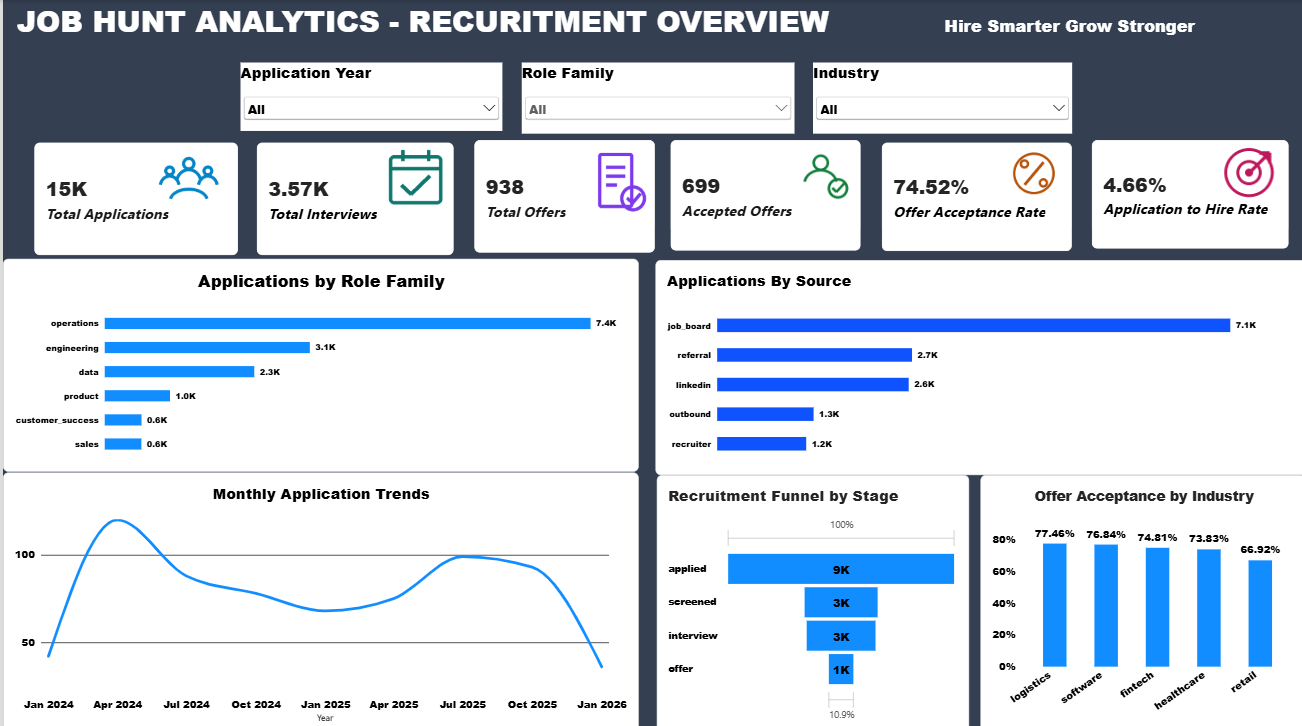

This screenshot's page, from the dashboard's own definition file:
{"tool":"powerbi","page":{"name":"Page 1","canvas":[1920,1080],"ordinal":0},"visuals":[{"type":"cardVisual","fields":{"Data":["public applications.Offer Acceptance Rate"]},"box":[1293.3,210,280,160],"z":0},{"type":"cardVisual","fields":{"Data":["public applications.Total Applications"]},"box":[46.7,210,300,166.7],"z":1},{"type":"cardVisual","fields":{"Data":["public applications.Total Interviews"]},"box":[373.3,210,290,166.7],"z":2},{"type":"cardVisual","fields":{"Data":["public applications.Total Offers"]},"box":[693.3,206.7,266.7,166.7],"z":3},{"type":"cardVisual","fields":{"Data":["public applications.Accepted Offers"]},"box":[983.3,206.7,280,163.3],"z":4},{"type":"textbox","box":[20,0,1900,93.3],"z":5},{"type":"cardVisual","fields":{"Data":["public applications.Application to Hire Rate"]},"box":[1603.3,206.7,290,160],"z":6},{"type":"funnel","title":"Recruitment Funnel by Stage","fields":{"Category":["public applications.stage"],"Y":["public applications.Applications by Stage"]},"box":[963.3,700,460,380],"z":7},{"type":"clusteredBarChart","title":"Applications By Source","fields":{"Category":["public applications.source"],"Y":["CountNonNull(public applications.application_id)"]},"box":[960,383.3,960,316.7],"z":8},{"type":"lineChart","title":"Monthly Application Trends","fields":{"Category":["public applications.accepted_at.Variation.Date Hierarchy.Year","public applications.accepted_at.Variation.Date Hierarchy.Quarter","public applications.accepted_at.Variation.Date Hierarchy.Month","public applications.accepted_at.Variation.Date Hierarchy.Day"],"Y":["CountNonNull(public applications.application_id)"]},"box":[0,694.9,935.9,385.6],"z":9},{"type":"clusteredColumnChart","title":"Offer Acceptance by Industry","fields":{"Category":["public applications.industry"],"Y":["public applications.Industry Offer Acceptance Rate"]},"box":[1440,700,480,380],"z":10},{"type":"clusteredBarChart","title":"Applications by Role Family","fields":{"Category":["public applications.role_family"],"Y":["CountNonNull(public applications.application_id)"]},"box":[0,381.6,935.9,313.3],"z":11},{"type":"slicer","title":"Application Year","fields":{"Values":["public applications.application_year"]},"box":[349.5,92.4,385.6,100.4],"z":12},{"type":"slicer","title":"Industry ","fields":{"Values":["public applications.industry"]},"box":[1193,92.4,381.6,104.4],"z":13},{"type":"slicer","title":"Role Family","fields":{"Values":["public applications.role_family"]},"box":[763.2,92.4,401.7,104.4],"z":14},{"type":"image","box":[196.8,216.9,152.6,100.4],"z":15},{"type":"image","box":[1152.8,216.9,112.5,84.4],"z":16},{"type":"image","box":[1775.4,208.9,116.5,92.4],"z":17},{"type":"image","box":[1462.1,216.9,112.5,76.3],"z":18},{"type":"image","box":[518.2,208.9,176.7,108.5],"z":19},{"type":"image","box":[827.4,212.9,156.7,104.4],"z":20}]}

Visuals, with their boxes in screenshot pixels (x1, y1, x2, y2), scaled from the page's 1920x1080 canvas onto the 1302x726 screenshot:
cardVisual - public applications.Offer Acceptance Rate: (877,141,1067,249)
cardVisual - public applications.Total Applications: (32,141,235,253)
cardVisual - public applications.Total Interviews: (253,141,450,253)
cardVisual - public applications.Total Offers: (470,139,651,251)
cardVisual - public applications.Accepted Offers: (667,139,857,249)
textbox: (14,0,1301,63)
cardVisual - public applications.Application to Hire Rate: (1087,139,1284,247)
"Recruitment Funnel by Stage" funnel: (653,471,965,725)
"Applications By Source" clusteredBarChart: (651,258,1301,471)
"Monthly Application Trends" lineChart: (0,467,635,725)
"Offer Acceptance by Industry" clusteredColumnChart: (976,471,1301,725)
"Applications by Role Family" clusteredBarChart: (0,257,635,467)
"Application Year" slicer: (237,62,498,130)
"Industry " slicer: (809,62,1068,132)
"Role Family" slicer: (518,62,790,132)
image: (133,146,237,213)
image: (782,146,858,203)
image: (1204,140,1283,203)
image: (991,146,1068,197)
image: (351,140,471,213)
image: (561,143,667,213)
